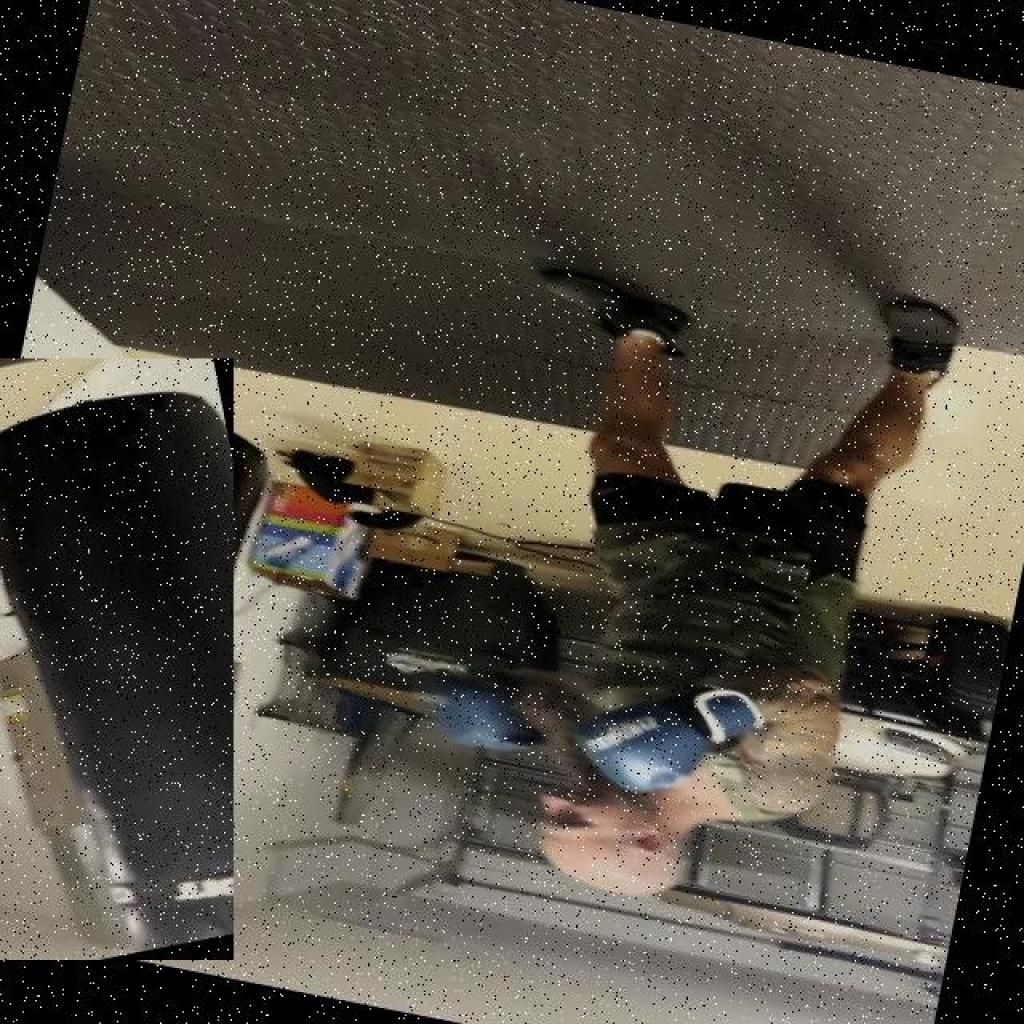bag: (0, 358, 234, 960)
no punch: (390, 572, 853, 938)
